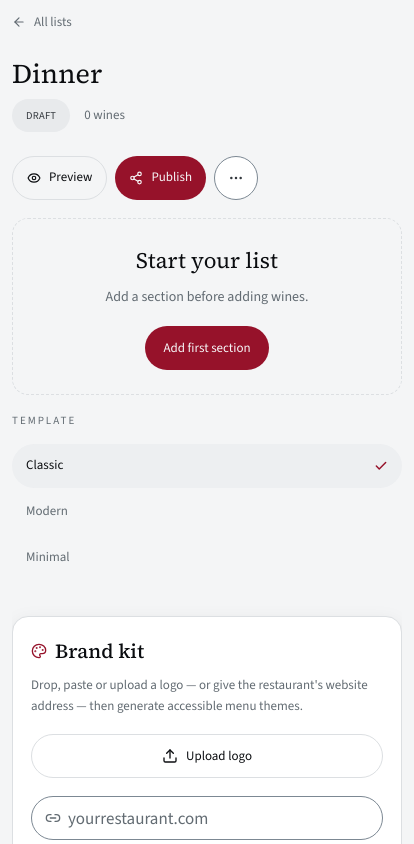
Test case: recovers a zero-section list locally after adding its first section
What coordinates should you click on to do the following:
click the button "Add first section"
I would click on:
 (207, 348)
Its box is [145, 326, 269, 370].
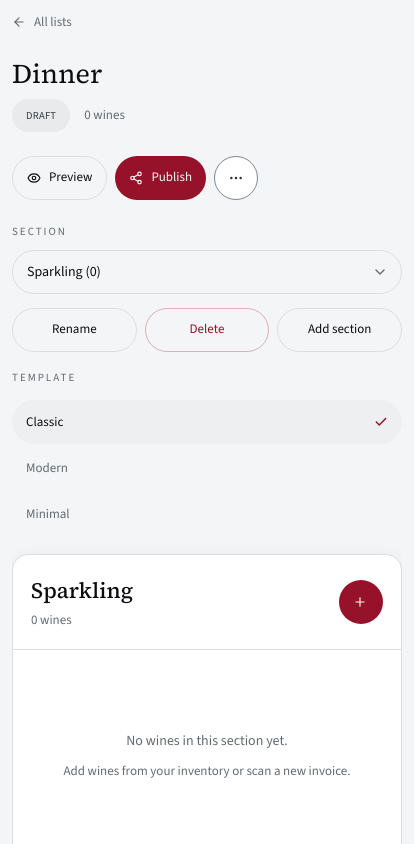
Expected: the dropdown with id "mobile-section" shows "Sparkling (0)", [12, 250, 402, 294]
Expected: the button "Rename" is shown, [12, 308, 137, 352]
Expected: the button "Delete" is shown, [145, 308, 269, 352]
